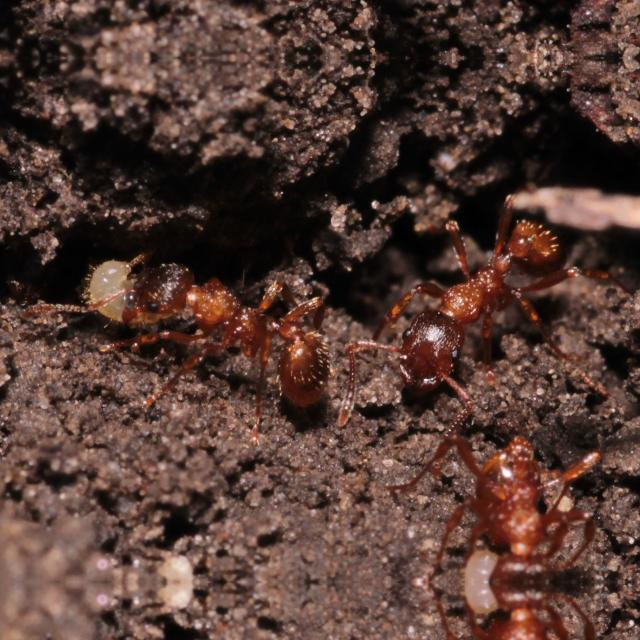Myrmica: (358, 192, 592, 398), (103, 234, 361, 410), (440, 421, 604, 581), (440, 580, 604, 640)
